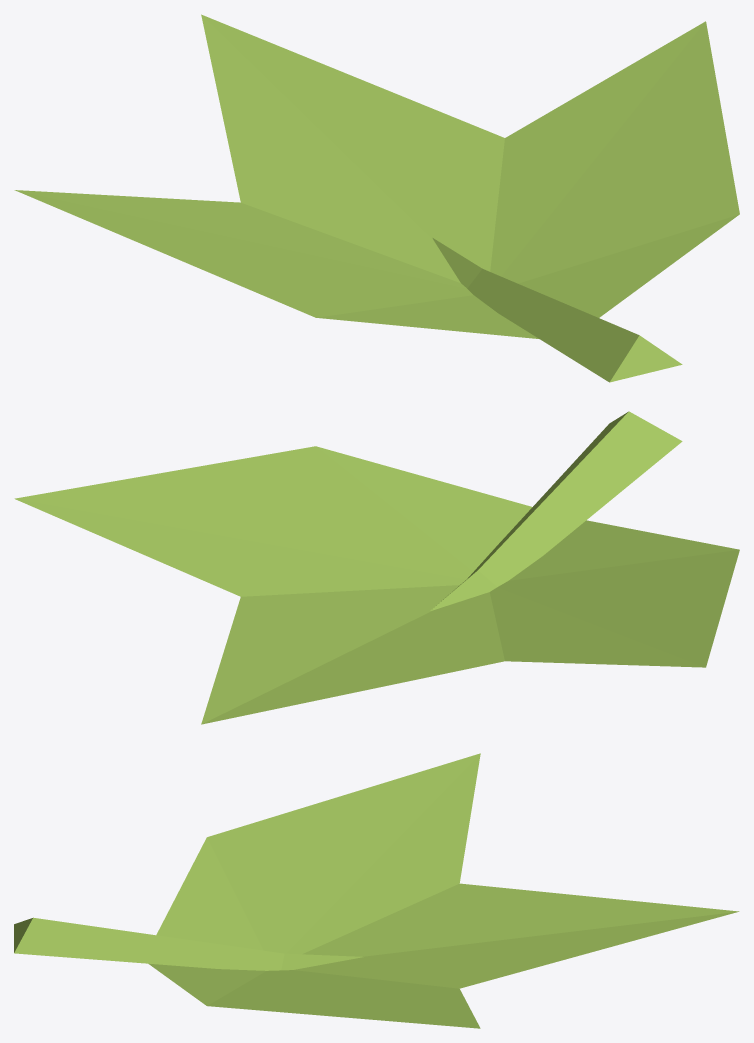
Rendered from leaf-maple.fbx.
The picture shows the model from 3 angles, top to bottom: view 1: azimuth 30°, elevation 25°; view 2: azimuth 150°, elevation 25°; view 3: azimuth 270°, elevation 25°; orthographic projection. The views are drawn at different scales.
Parts seen in each view (by area): view 1: leaf-maple; view 2: leaf-maple; view 3: leaf-maple.
Part boxes in pixels (left/top/right/bottom): leaf-maple: left=14, top=14, right=739, bottom=382; leaf-maple: left=14, top=411, right=739, bottom=724; leaf-maple: left=14, top=753, right=739, bottom=1028.
Bounding box in the file's own units: 0.6338 × 0.0822 × 0.7059.
